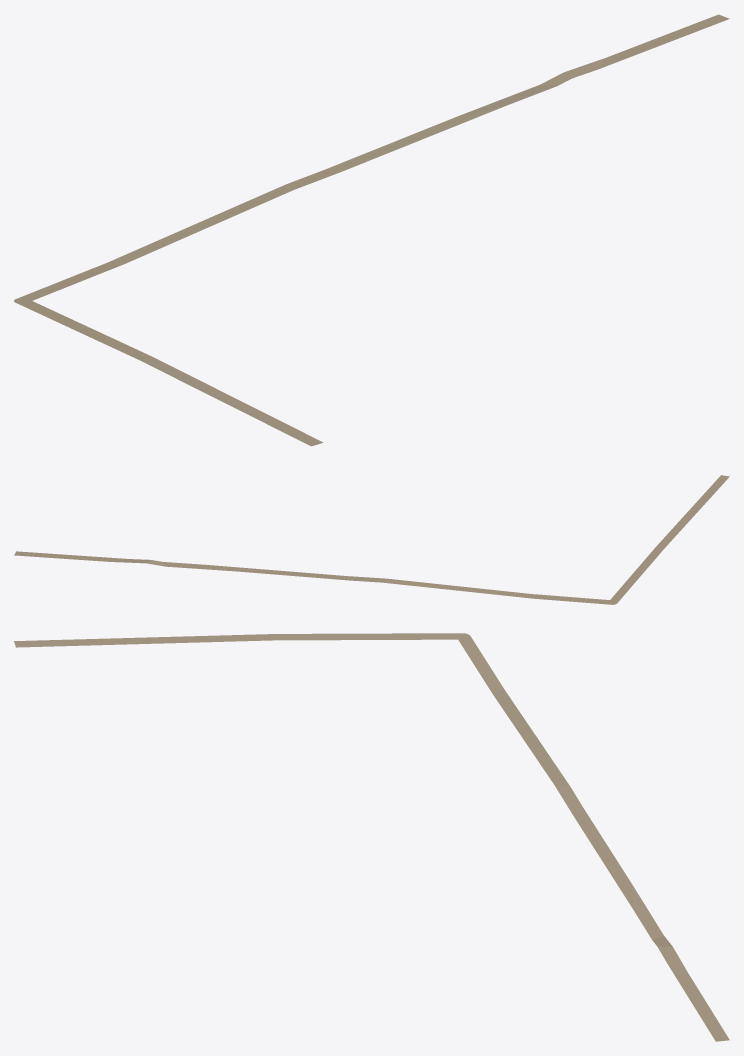
Rendered from farm_15_7_track.glb.
The picture shows the model from 3 angles, top to bottom: view 1: azimuth 30°, elevation 25°; view 2: azimuth 150°, elevation 25°; view 3: azimuth 270°, elevation 25°; orthographic projection. The views are drawn at different scales.
Parts seen in each view (by area): view 1: geometry_0; view 2: geometry_0; view 3: geometry_0.
Part boxes in pixels (<box>): geometry_0: <box>14,14,729,446</box>; geometry_0: <box>14,475,729,604</box>; geometry_0: <box>14,633,729,1041</box>.
Size of the model in its own units: 204 by 9.57 by 160.
